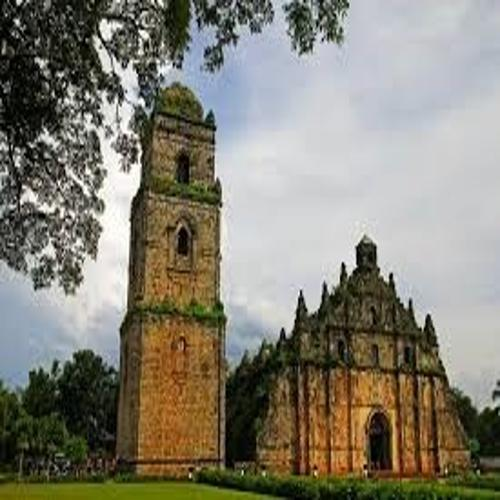Paoay Church: (117, 63, 479, 486)
